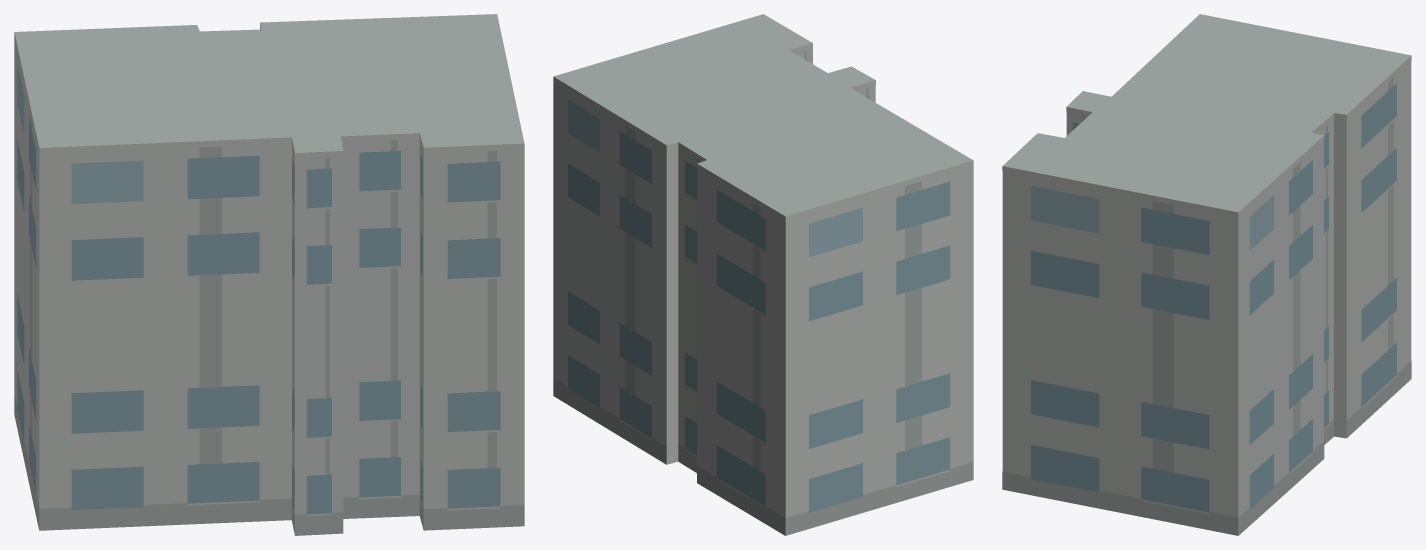
File: survey-upis-32635594.glb
3 renders of one model, left to right at view 1: azimuth 30°, elevation 25°; view 2: azimuth 150°, elevation 25°; view 3: azimuth 270°, elevation 25°, orthographic. The views are drawn at different scales.
Parts seen in each view (by area): view 1: survey-upis-32635594.tmp; view 2: survey-upis-32635594.tmp; view 3: survey-upis-32635594.tmp.
Part boxes in pixels (x1,y1,x2,y2): survey-upis-32635594.tmp: (14, 14, 524, 535); survey-upis-32635594.tmp: (553, 14, 973, 535); survey-upis-32635594.tmp: (1002, 14, 1411, 535).
Bounding box in the file's own units: 19.2 × 14.6 × 16.74.
